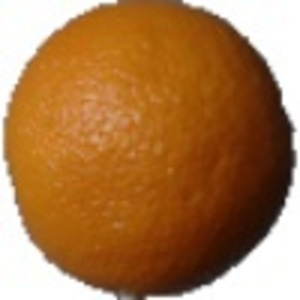laranja: (6, 5, 294, 296)
